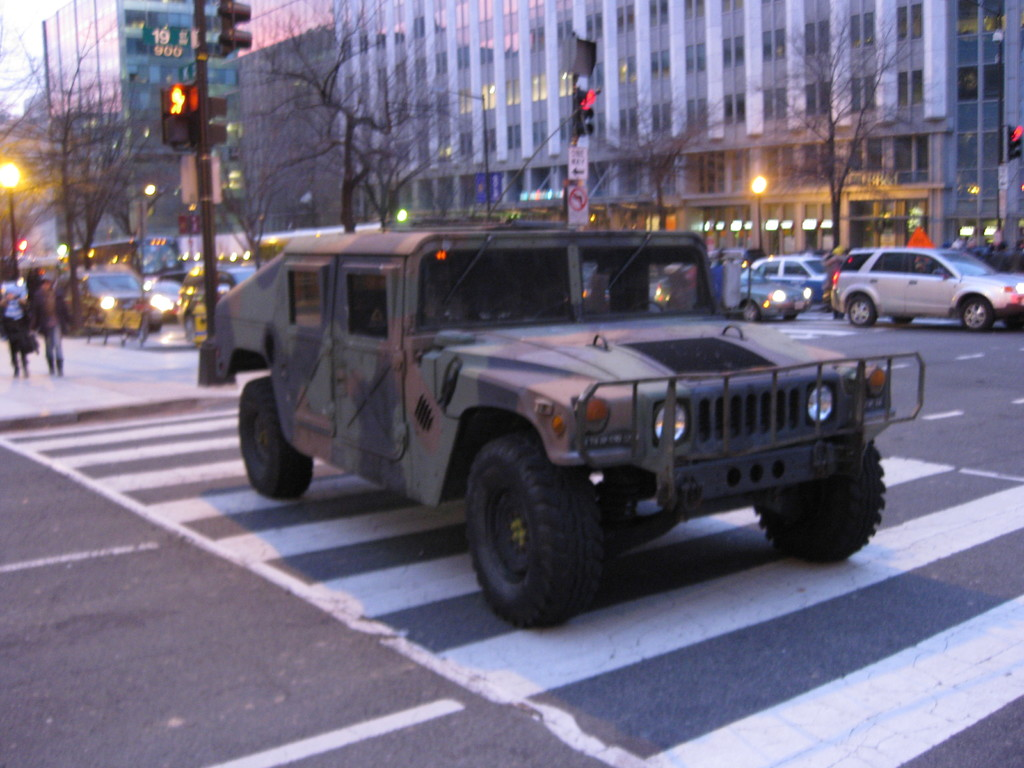Car: (583, 243, 1023, 330), (176, 263, 262, 344), (55, 270, 159, 332), (144, 275, 183, 325)
